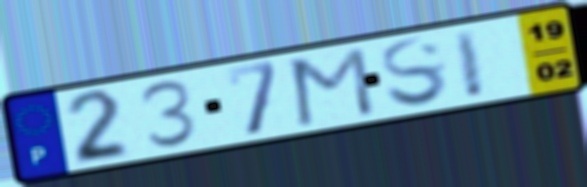2: (63, 87, 134, 169)
3: (138, 78, 200, 151)
7: (224, 58, 281, 139)
I: (450, 26, 489, 102)
M: (288, 44, 378, 130)
S: (377, 35, 453, 109)
